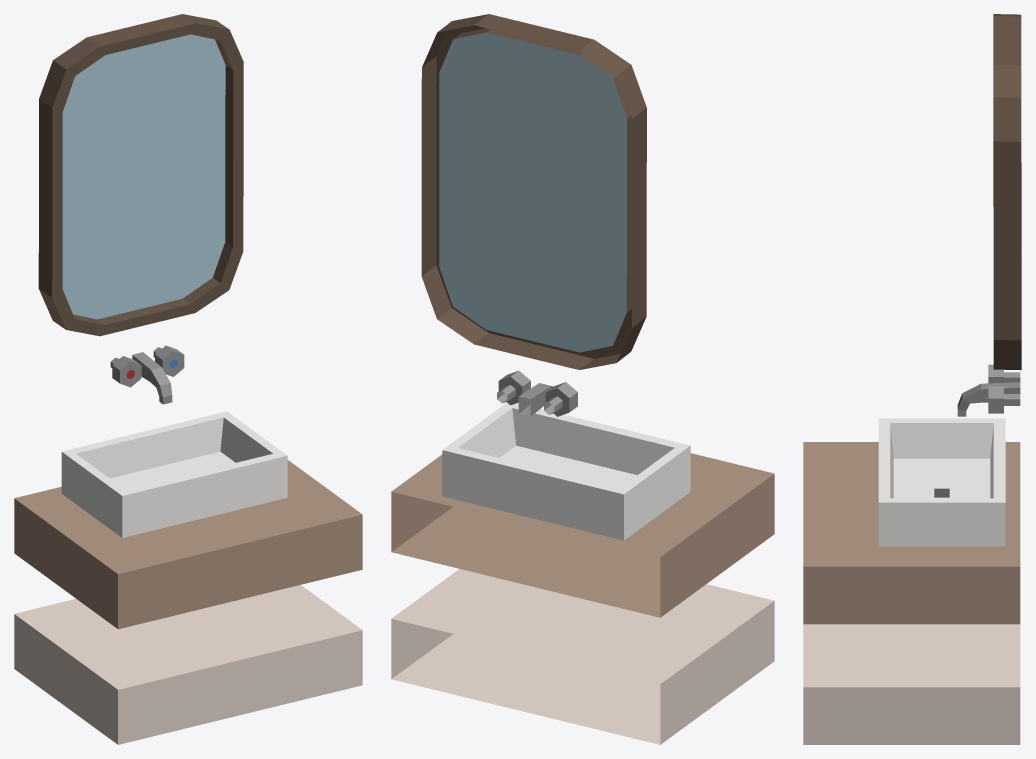
Rendered from Sink.fbx.
3 views of the same model, side by side, from view 1: azimuth 30°, elevation 25°; view 2: azimuth 150°, elevation 25°; view 3: azimuth 270°, elevation 25° (orthographic). The views are drawn at different scales.
Visible parts, largest first — view 1: Sink; view 2: Sink; view 3: Sink.
Part boxes in pixels (bbox=[...]): Sink: bbox=[14, 14, 362, 744]; Sink: bbox=[391, 14, 774, 744]; Sink: bbox=[803, 14, 1021, 744].
Bounding box in the file's own units: 108 × 80.32 × 260.
